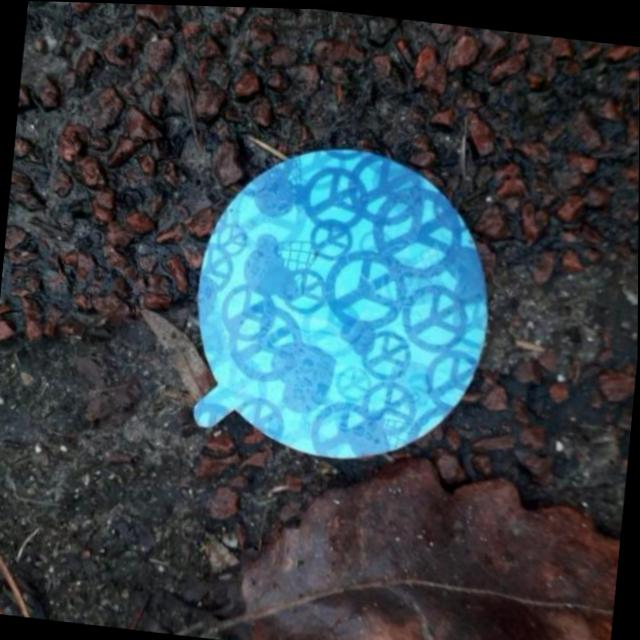Paper: (177, 125, 506, 476)
